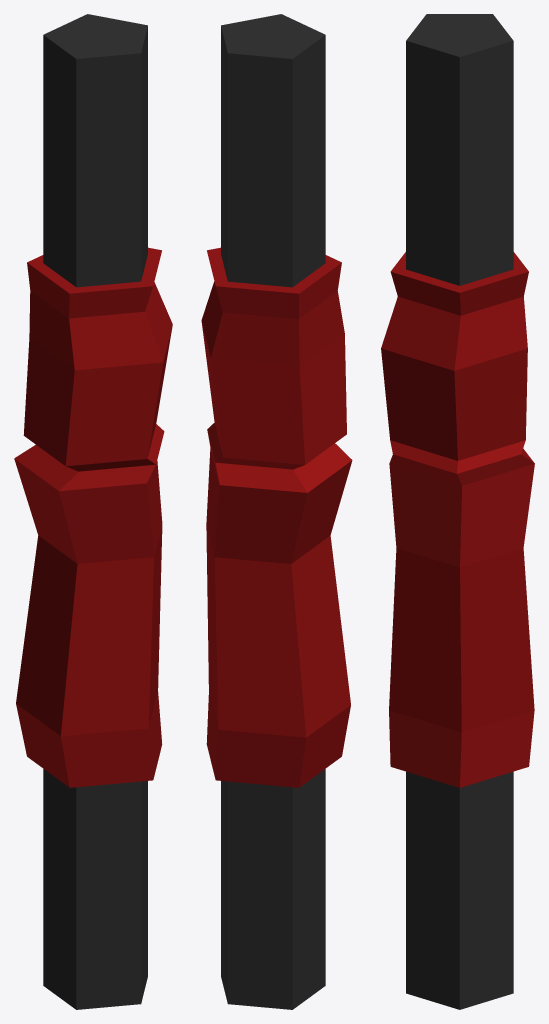
The model's file is Pipe01.dae.
3 views of the same model, side by side, from view 1: azimuth 30°, elevation 25°; view 2: azimuth 150°, elevation 25°; view 3: azimuth 270°, elevation 25° (orthographic).
Parts seen in each view (by area): view 1: pCylinder43, pCylinder42; view 2: pCylinder43, pCylinder42; view 3: pCylinder43, pCylinder42.
Boxes of the visible parts, x1,y1,x2,y2 form: pCylinder43: (14,247,172,787); pCylinder42: (43,14,147,1009); pCylinder43: (201,247,352,787); pCylinder42: (221,14,325,1009); pCylinder43: (381,252,534,787); pCylinder42: (406,14,513,1009).
Bounding box in the file's own units: 0.3233 × 2.22 × 0.3249.
